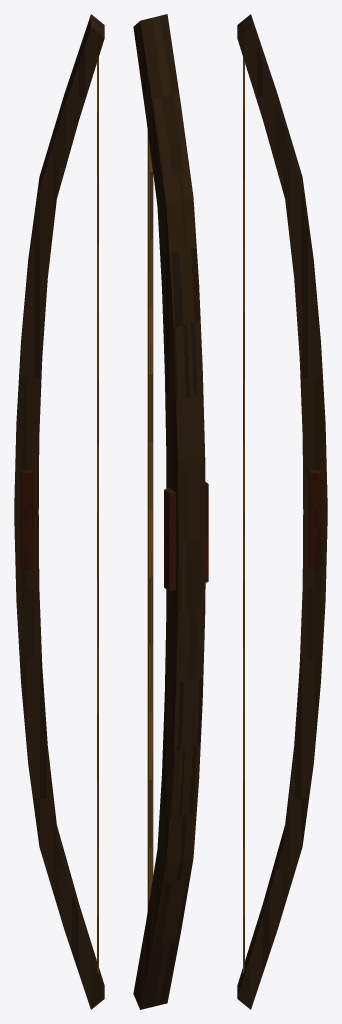
Rendered from arco_cuerno.glb.
3 views of the same model, side by side, from view 1: azimuth 90°, elevation 25°; view 2: azimuth 210°, elevation 25°; view 3: azimuth 270°, elevation 25° (orthographic).
Visible parts, largest first — view 1: palas, cuerda, empunadura; view 2: palas, cuerda, empunadura; view 3: palas, cuerda, empunadura.
Boxes of the visible parts, left/top/right/bottom form: palas: left=14, top=14, right=104, bottom=1009; cuerda: left=97, top=57, right=98, bottom=974; empunadura: left=20, top=470, right=33, bottom=569; palas: left=133, top=14, right=205, bottom=1009; cuerda: left=147, top=131, right=153, bottom=910; empunadura: left=164, top=482, right=208, bottom=591; palas: left=237, top=14, right=327, bottom=1009; cuerda: left=243, top=57, right=244, bottom=974; empunadura: left=308, top=470, right=321, bottom=569.
Bounding box in the file's own units: 0.05 × 1.2 × 0.1.
1 material, 1 textured.
